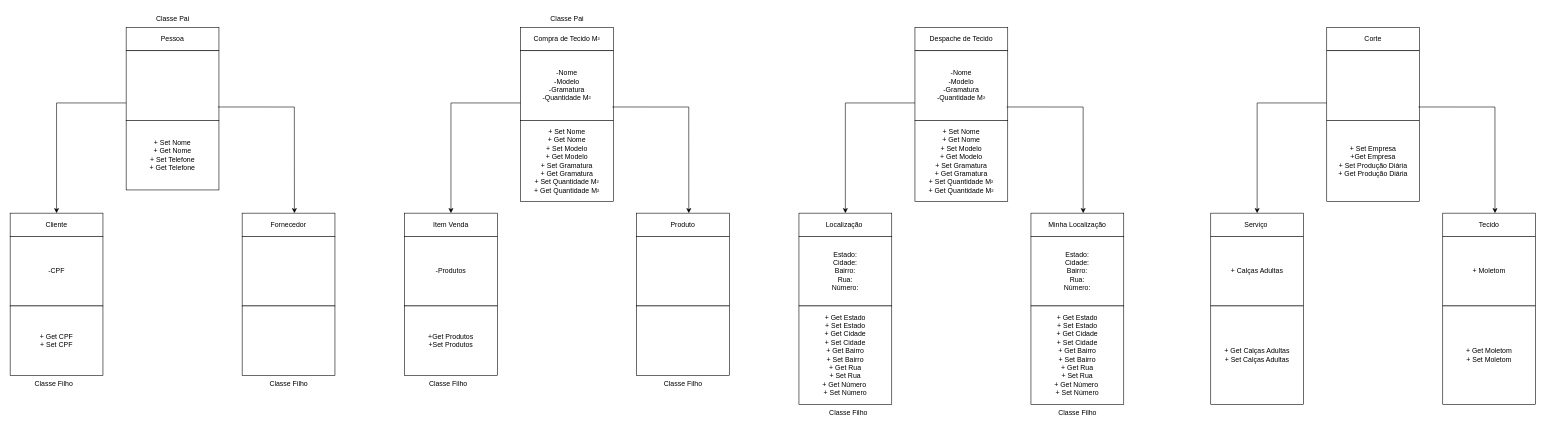
Image size: 1546x432. Some labels were removed from this diagram. Here are the shapes that lost their labels. From the top down, the box of each, then its label:
(126, 50, 219, 120): -Nome -Telefone
(1326, 50, 1420, 120): - Empresa - Produção Diária
